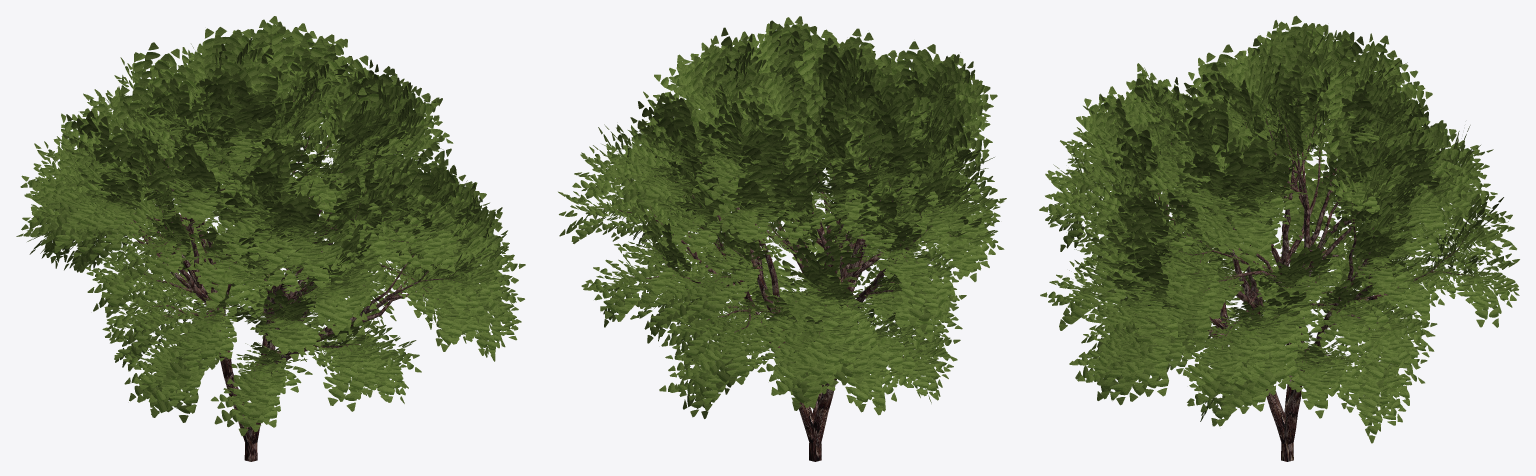
Rendered from Tree3400_1.fbx.
3 renders of one model, left to right at view 1: azimuth 30°, elevation 25°; view 2: azimuth 150°, elevation 25°; view 3: azimuth 270°, elevation 25°, orthographic.
Visible parts, largest first — view 1: leaves, tree; view 2: leaves, tree; view 3: leaves, tree.
Part boxes in pixels (left/top/right/bottom): leaves: left=16, top=16, right=525, bottom=436; tree: left=93, top=87, right=469, bottom=461; leaves: left=558, top=16, right=1006, bottom=418; tree: left=600, top=85, right=957, bottom=461; leaves: left=1039, top=15, right=1519, bottom=443; tree: left=1089, top=74, right=1482, bottom=461.
Bounding box in the file's own units: 1384 × 1316 × 1412.
